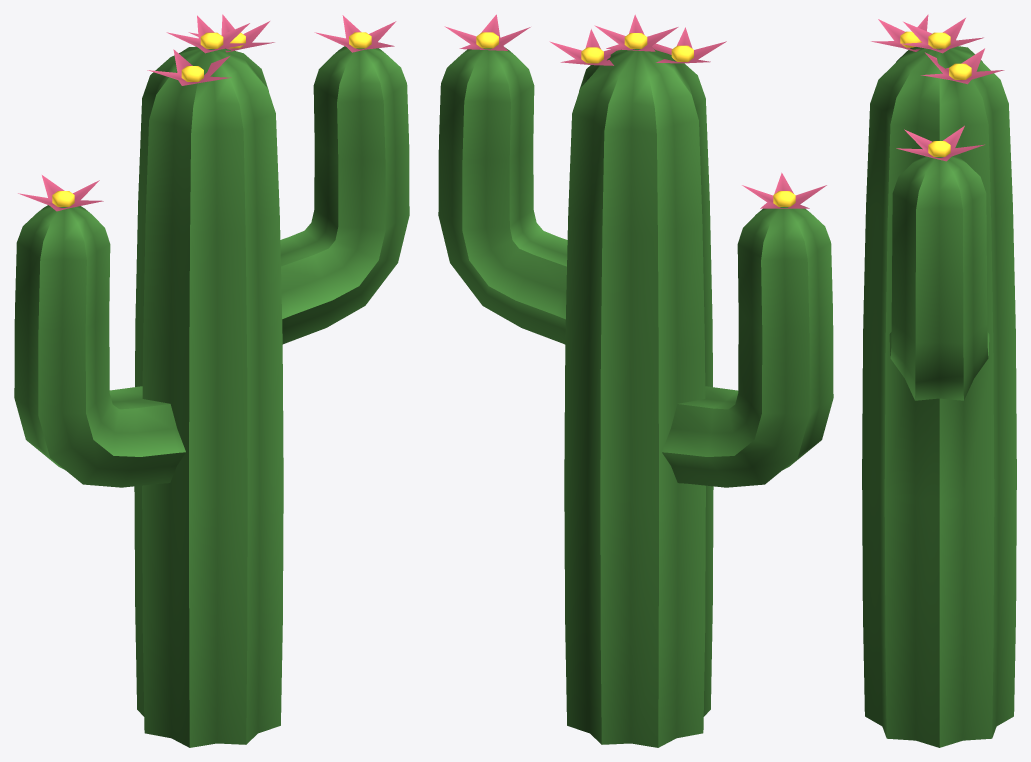
The model's file is cactus.glb.
3 views of the same model, side by side, from view 1: azimuth 30°, elevation 25°; view 2: azimuth 150°, elevation 25°; view 3: azimuth 270°, elevation 25° (orthographic).
Parts seen in each view (by area): view 1: Saguaro cactus Saguaro green, Saguaro cactus Cactus flower, Saguaro cactus Cactus flower heart; view 2: Saguaro cactus Saguaro green, Saguaro cactus Cactus flower, Saguaro cactus Cactus flower heart; view 3: Saguaro cactus Saguaro green, Saguaro cactus Cactus flower, Saguaro cactus Cactus flower heart.
Part boxes in pixels (x1,y1,x2,y2): Saguaro cactus Saguaro green: (14, 46, 409, 747); Saguaro cactus Cactus flower: (18, 14, 396, 211); Saguaro cactus Cactus flower heart: (52, 32, 371, 206); Saguaro cactus Saguaro green: (438, 47, 833, 747); Saguaro cactus Cactus flower: (444, 14, 826, 208); Saguaro cactus Cactus flower heart: (476, 32, 795, 206); Saguaro cactus Saguaro green: (862, 46, 1016, 747); Saguaro cactus Cactus flower: (871, 14, 1004, 161); Saguaro cactus Cactus flower heart: (900, 31, 971, 156).
Size of the model in its own units: 2.49 by 4.36 by 0.8931.
